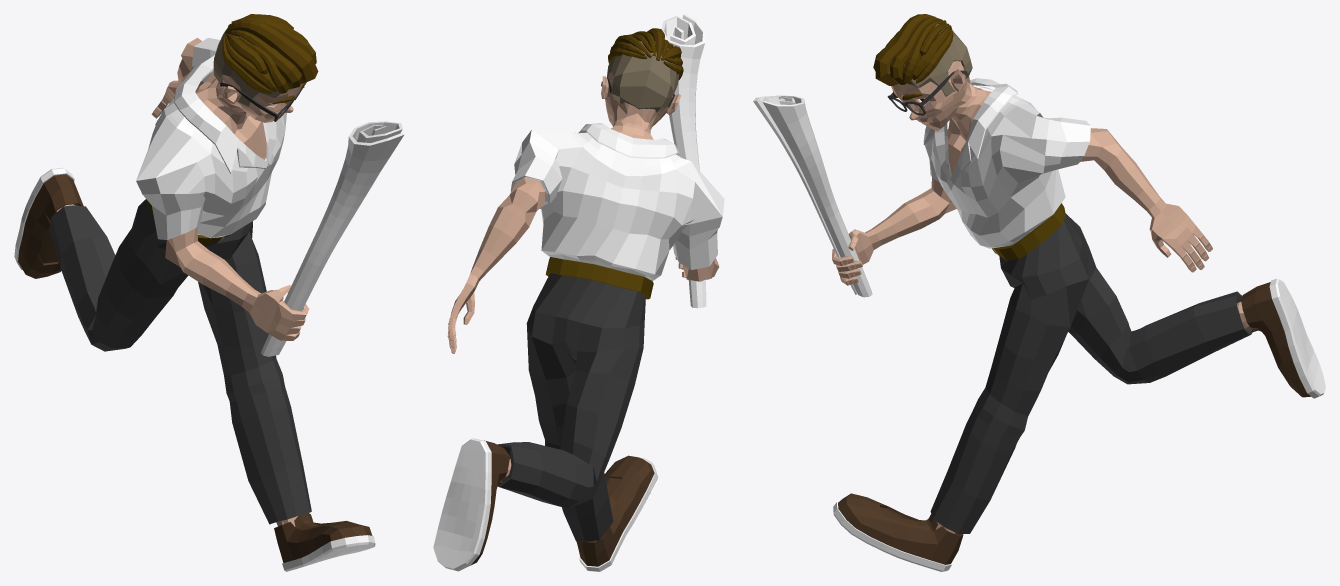
The model's file is Luis Character Model - Main.glb.
3 renders of one model, left to right at view 1: azimuth 30°, elevation 25°; view 2: azimuth 150°, elevation 25°; view 3: azimuth 270°, elevation 25°, orthographic. The views are drawn at different scales.
Bounding box in the file's own units: 7.01 × 21.19 × 20.78.
